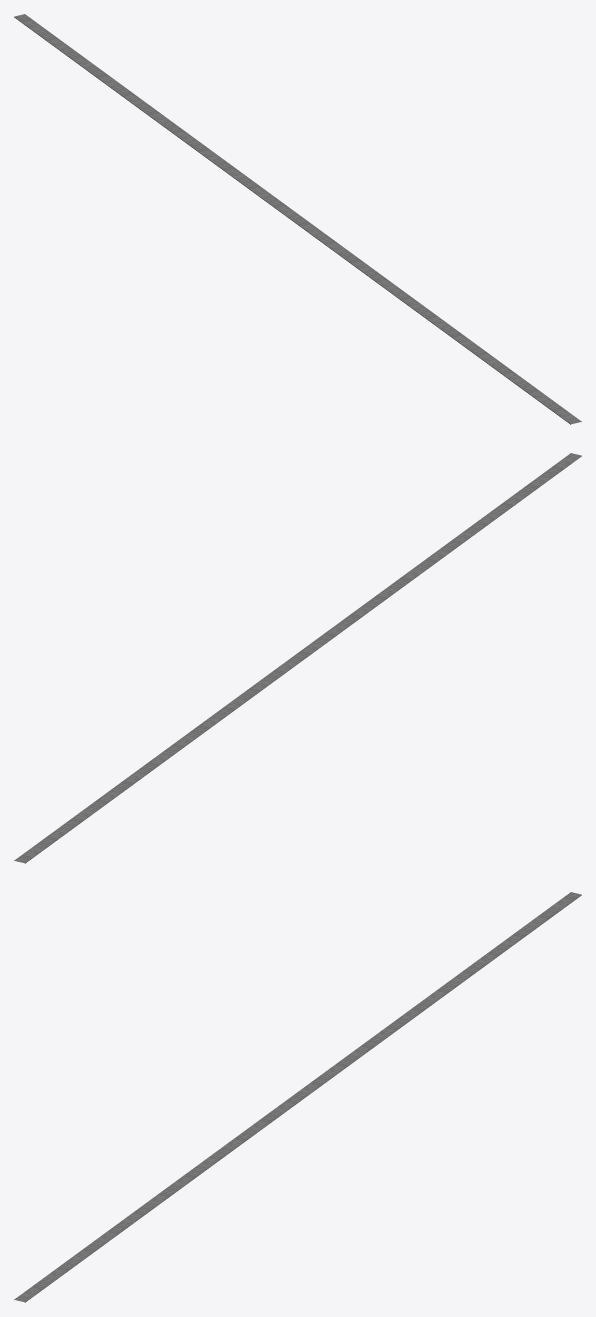
Rendered from SM_ENV_LKNVLD_Ground_Right_trim_Wood_Mid_BG.FBX.
The picture shows the model from 3 angles, top to bottom: view 1: azimuth 30°, elevation 25°; view 2: azimuth 150°, elevation 25°; view 3: azimuth 330°, elevation 25°; orthographic projection.
Parts seen in each view (by area): view 1: SM_ENV_LKNVLD_Ground_Right_trim_Wood_Mid_BG; view 2: SM_ENV_LKNVLD_Ground_Right_trim_Wood_Mid_BG; view 3: SM_ENV_LKNVLD_Ground_Right_trim_Wood_Mid_BG.
Boxes of the visible parts, x1=… form: SM_ENV_LKNVLD_Ground_Right_trim_Wood_Mid_BG: x1=14, y1=14, x2=581, y2=424; SM_ENV_LKNVLD_Ground_Right_trim_Wood_Mid_BG: x1=14, y1=453, x2=581, y2=863; SM_ENV_LKNVLD_Ground_Right_trim_Wood_Mid_BG: x1=14, y1=892, x2=581, y2=1302.
Bounding box in the file's own units: 128 × 6.4 × 11264.
